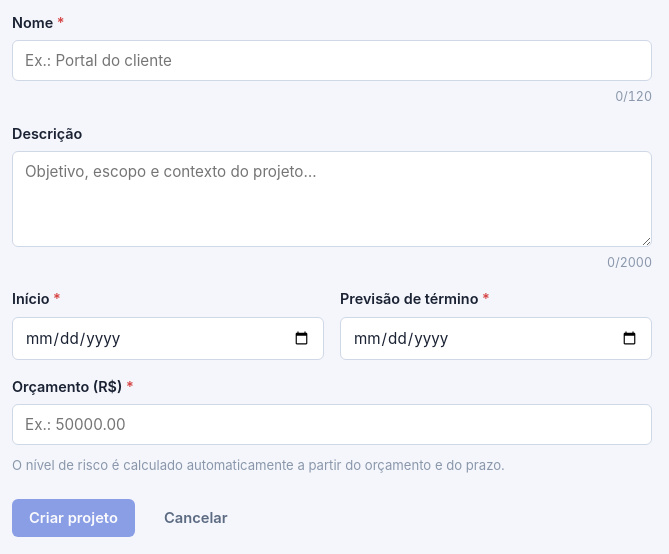
ProjectForm › exibe o contador de caracteres de nome e descrição
Type "Portal" into the field labelled "Nome *" at (332, 61), box top-left (12, 40), bottom-right (652, 81)
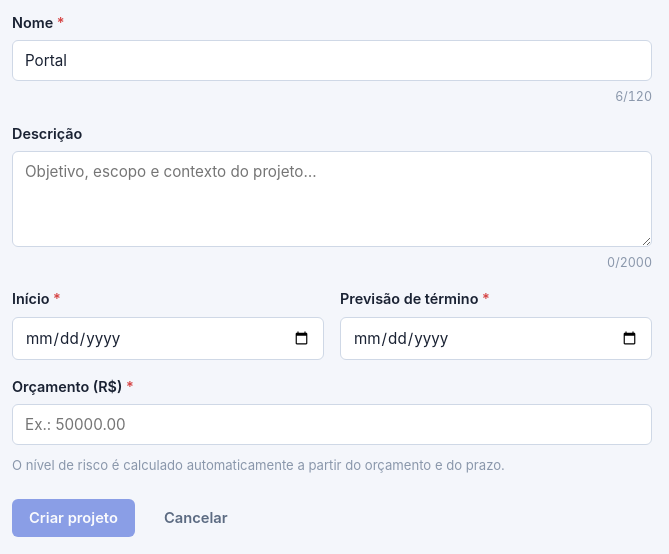
Type "abc" into the text box labelled "Descrição" at (332, 199), box top-left (12, 151), bottom-right (652, 247)
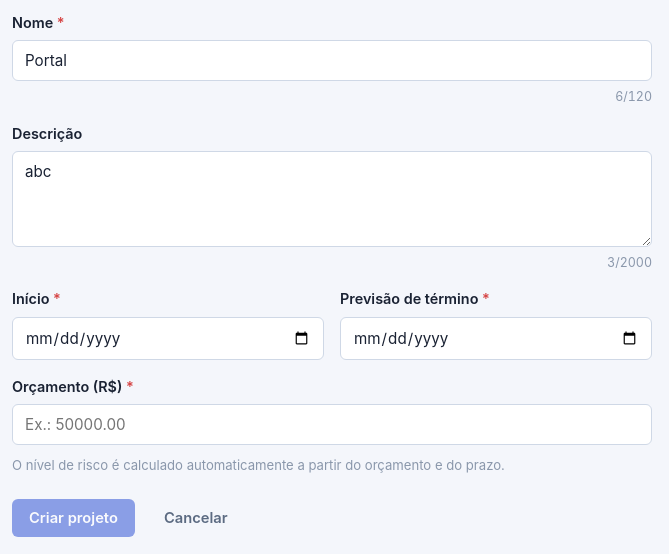
Expected: the text "6/120" is shown, top-left (615, 87), bottom-right (652, 107)
Expected: the text "3/2000" is shown, top-left (607, 253), bottom-right (652, 272)
